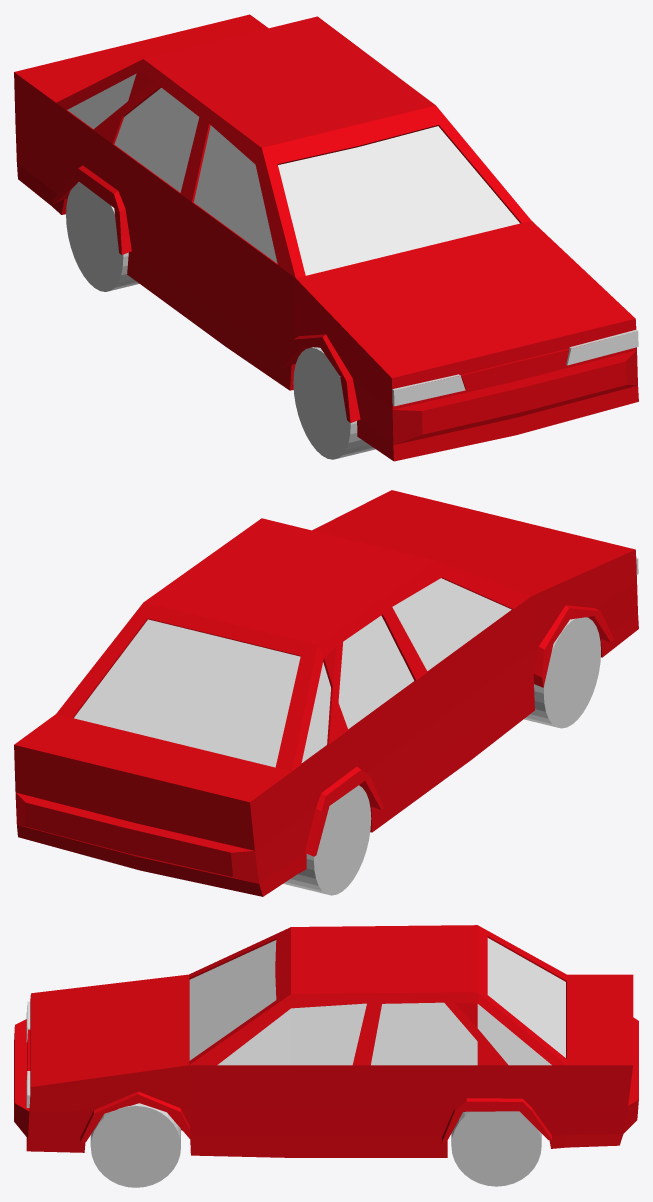
The model's file is Corolla.fbx.
The picture shows the model from 3 angles, top to bottom: view 1: azimuth 30°, elevation 25°; view 2: azimuth 150°, elevation 25°; view 3: azimuth 270°, elevation 25°; orthographic projection. The views are drawn at different scales.
Parts seen in each view (by area): view 1: Cube, Cylinder.002, Cylinder.003; view 2: Cube, Cylinder.002, Cylinder.003; view 3: Cube, Cylinder, Cylinder.001.
Part boxes in pixels (x1,y1,x2,y2): Cube: (14,14,638,461); Cylinder.002: (293,347,375,459); Cylinder.003: (66,182,139,291); Cube: (14,490,638,896); Cylinder.002: (524,617,600,728); Cylinder.003: (283,785,371,895); Cube: (14,925,638,1157); Cylinder: (90,1103,180,1187); Cylinder.001: (451,1111,541,1186).
Bounding box in the file's own units: 445 × 368 × 1156.
